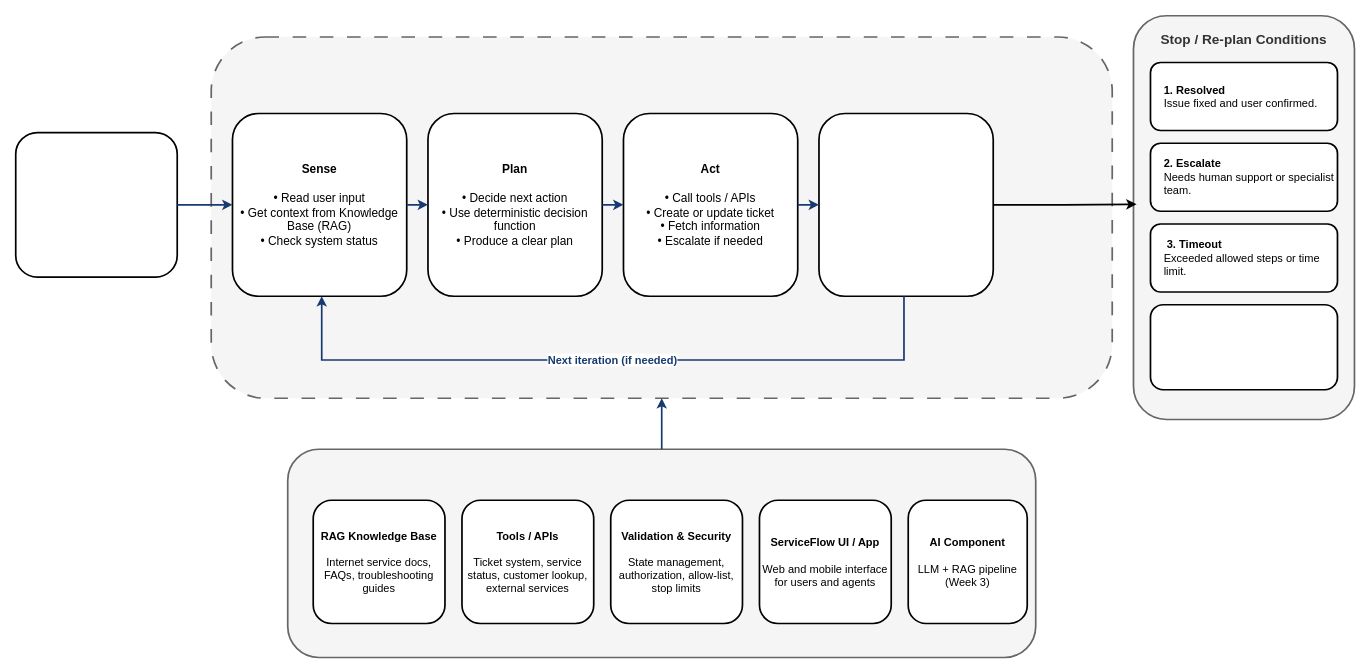
This 1369x672 diagram has some shape labels left out. The shapes that lost their labels are listed below. From the top down, each one's box as (x1, y1, x2, y2) in pixels, then its label:
(14, 131, 178, 278): User / Request • Internet service issue • Support request • Customer details
(210, 36, 1113, 399): Agent Loop (Sense → Plan → Act → Observe → Stop/Re-plan)
(818, 112, 994, 297): Observe • Check results • Read tool responses • Update state • Decide next step
(1149, 303, 1338, 390): 4. Re-plan New information received → go back to Sense.
(286, 448, 1036, 658): Supporting Components (Week 3 + Week 4)
